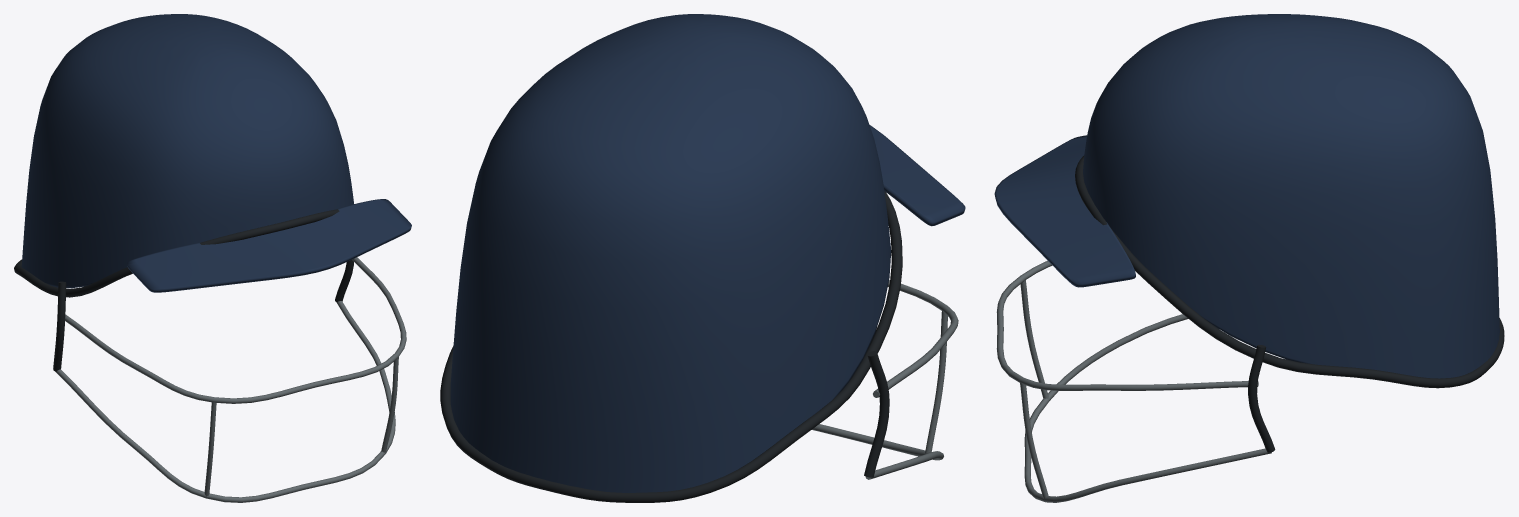
Rendered from cricket_helmet_slice.glb.
3 views of the same model, side by side, from view 1: azimuth 30°, elevation 25°; view 2: azimuth 150°, elevation 25°; view 3: azimuth 270°, elevation 25° (orthographic). The views are drawn at different scales.
Parts seen in each view (by area): view 1: Cricket helmet shell, Upper faceguard, Finished inner rim; view 2: Cricket helmet shell, Finished inner rim, Upper faceguard; view 3: Cricket helmet shell, Upper faceguard, Finished inner rim.
Boxes of the visible parts, x1,y1,x2,y2 form: Cricket helmet shell: [21, 14, 411, 292]; Upper faceguard: [55, 257, 406, 502]; Finished inner rim: [14, 209, 353, 371]; Cricket helmet shell: [450, 14, 965, 492]; Finished inner rim: [440, 191, 902, 502]; Upper faceguard: [812, 280, 958, 479]; Cricket helmet shell: [994, 14, 1499, 378]; Upper faceguard: [996, 260, 1271, 502]; Finished inner rim: [1075, 155, 1504, 452].
Bounding box in the file's own units: 0.215 × 0.2589 × 0.2773.
